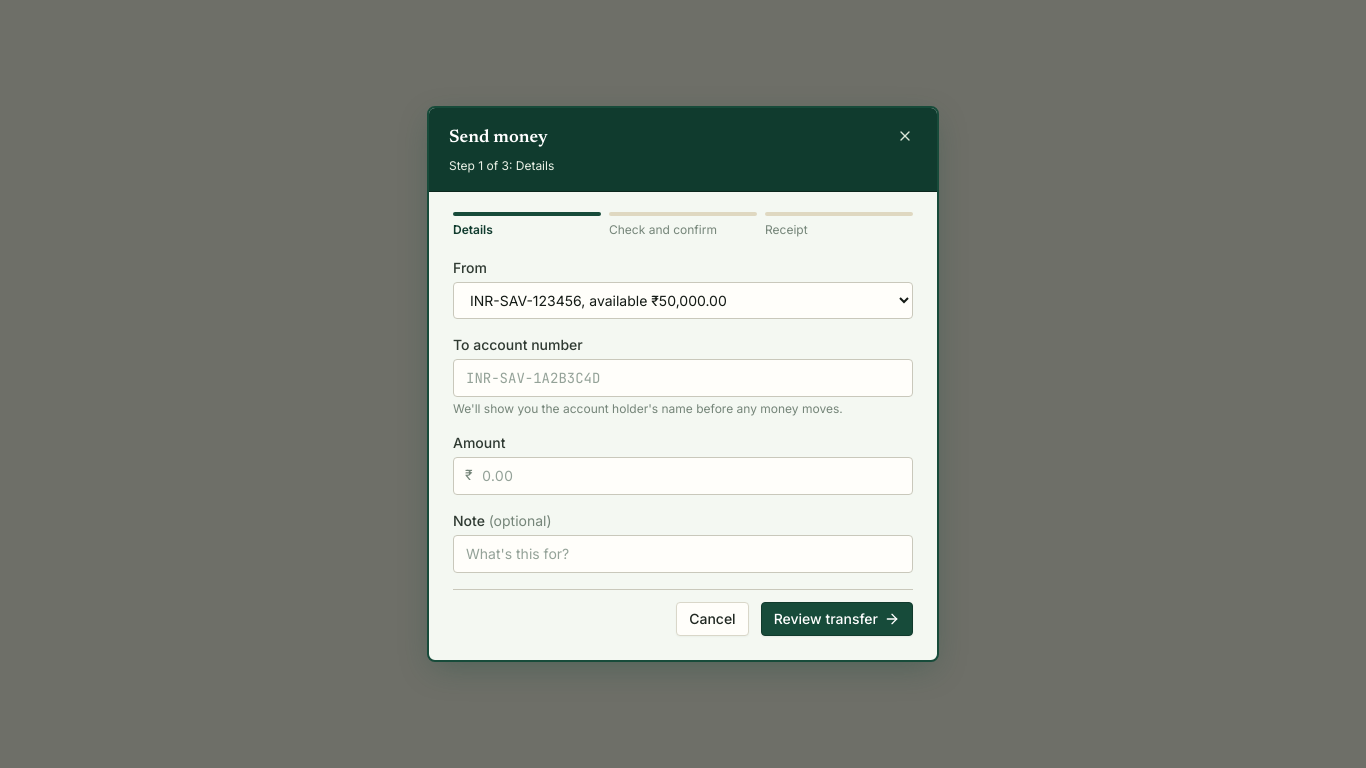
Test case: TransferModal Component › navigates to review step with valid inputs and displays idempotency key
In the field labelled "Amount": [683, 476] box [453, 457, 913, 495], type "15000"
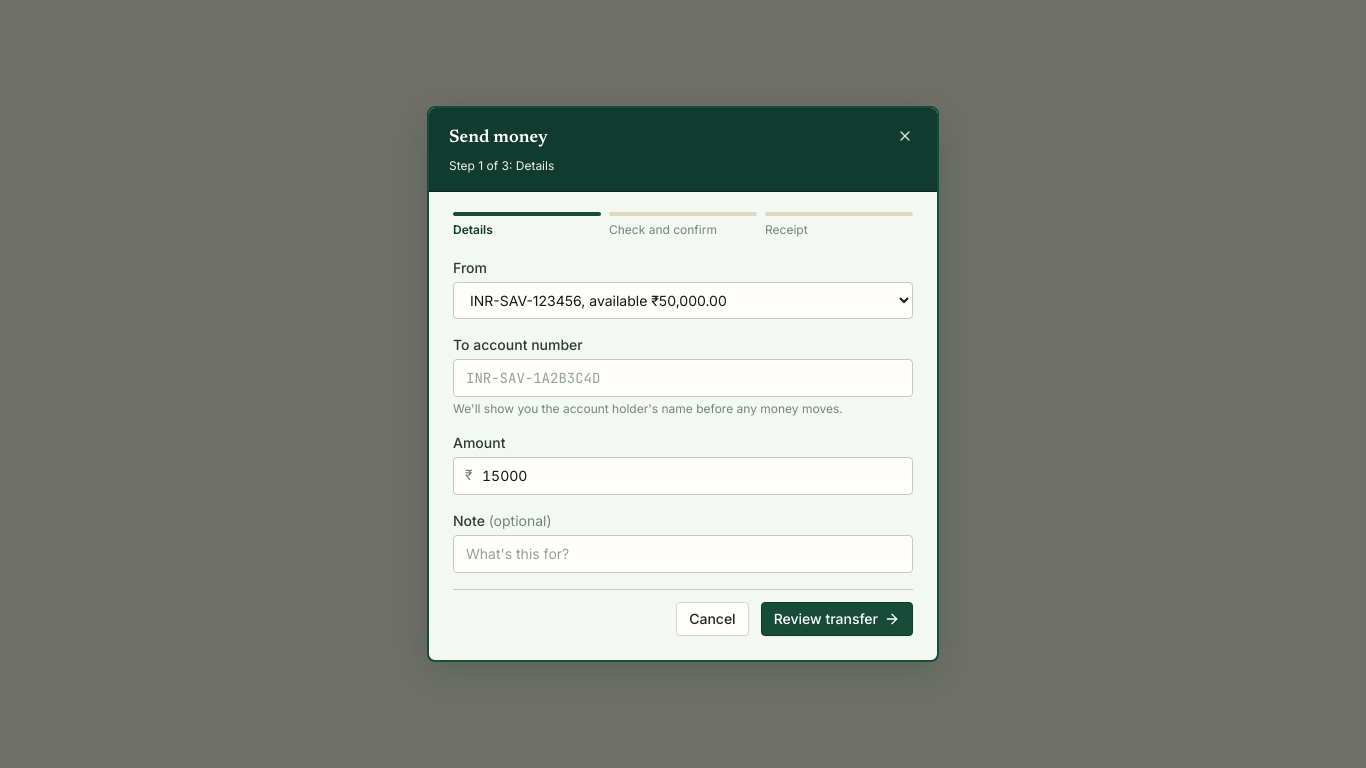
In the field labelled "To account number": [683, 378] box [453, 359, 913, 397], type "inr-sav-999999"
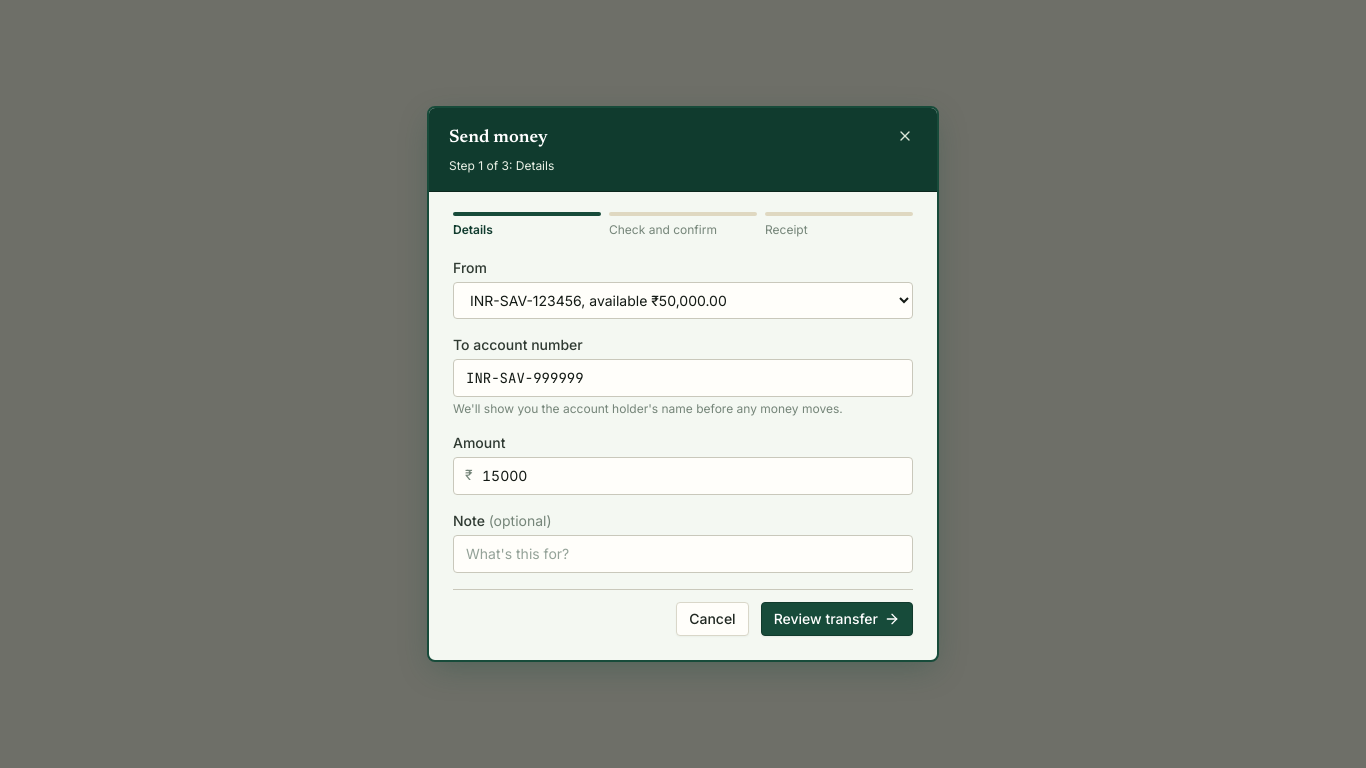
Click the button "Review transfer": [837, 619] box [761, 602, 913, 636]
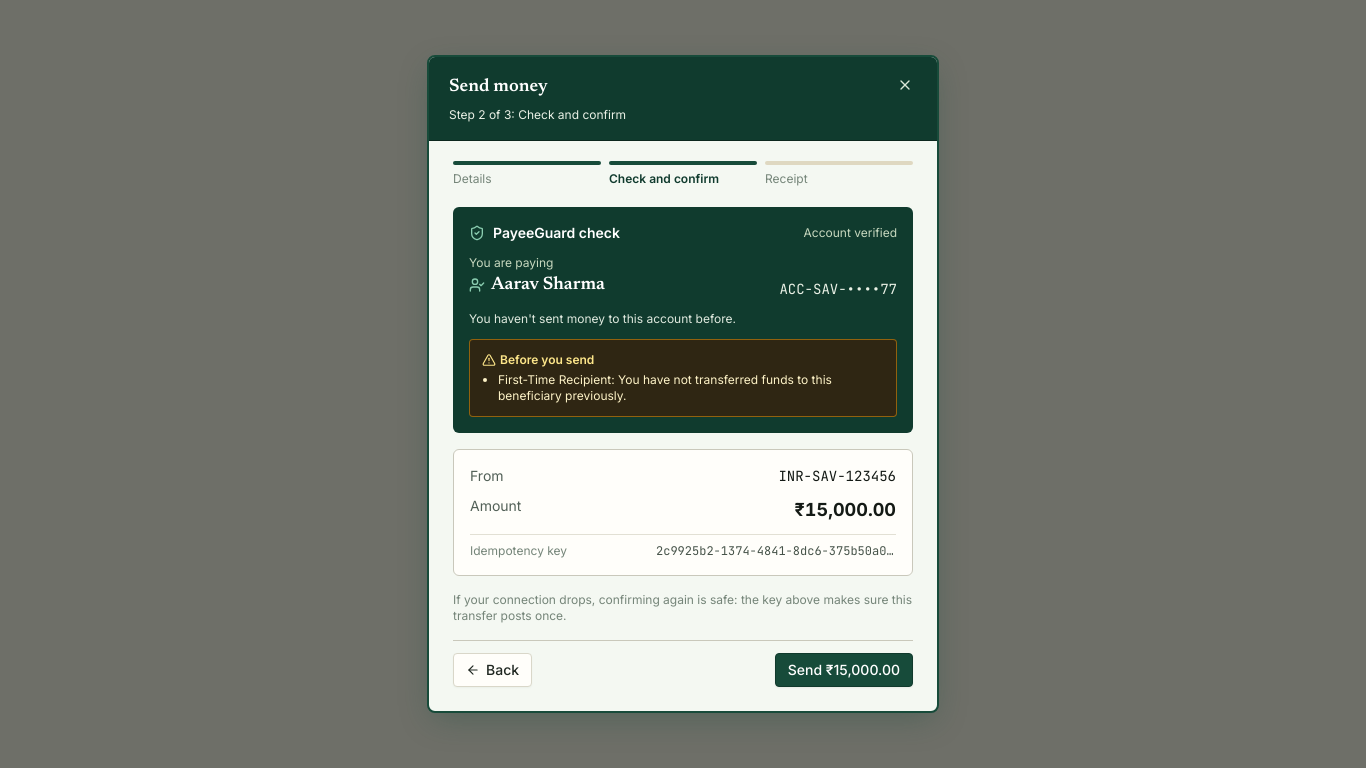
Result: the button "Send ₹15,000.00" is shown at [775, 653, 913, 687]
Result: the text "Idempotency key" is shown at [470, 543, 567, 559]
Result: the text "PayeeGuard check" is shown at [469, 223, 620, 243]
